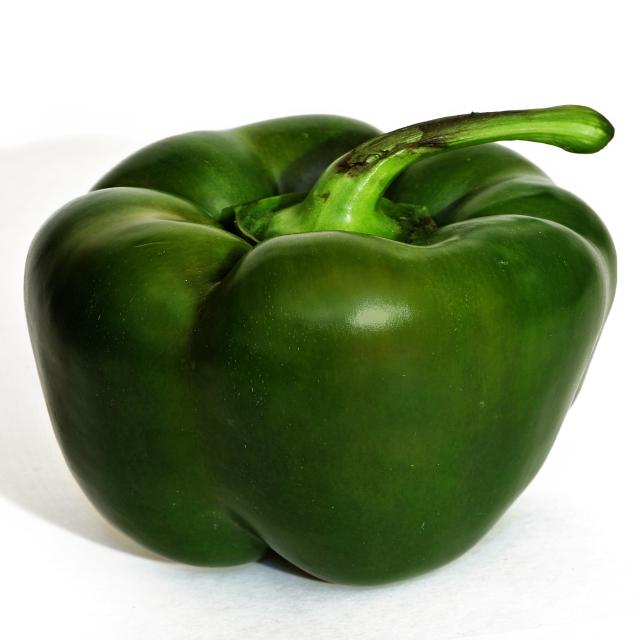bell pepper: (28, 78, 640, 595)
